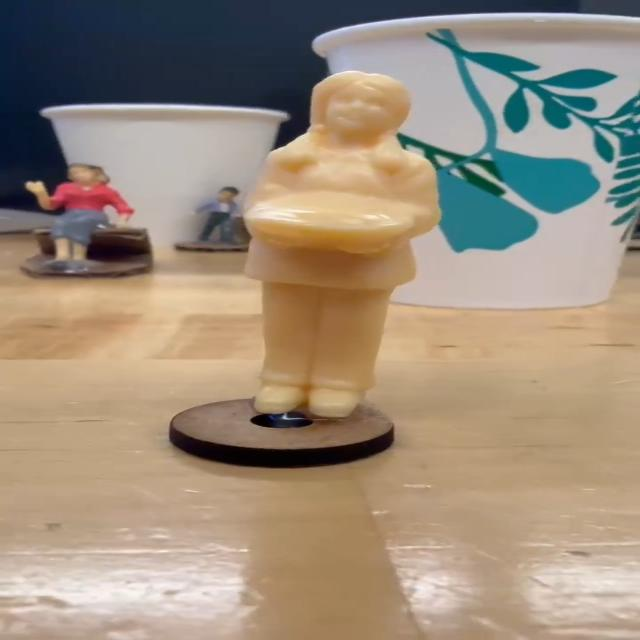Unauthorized: (242, 69, 453, 434)
